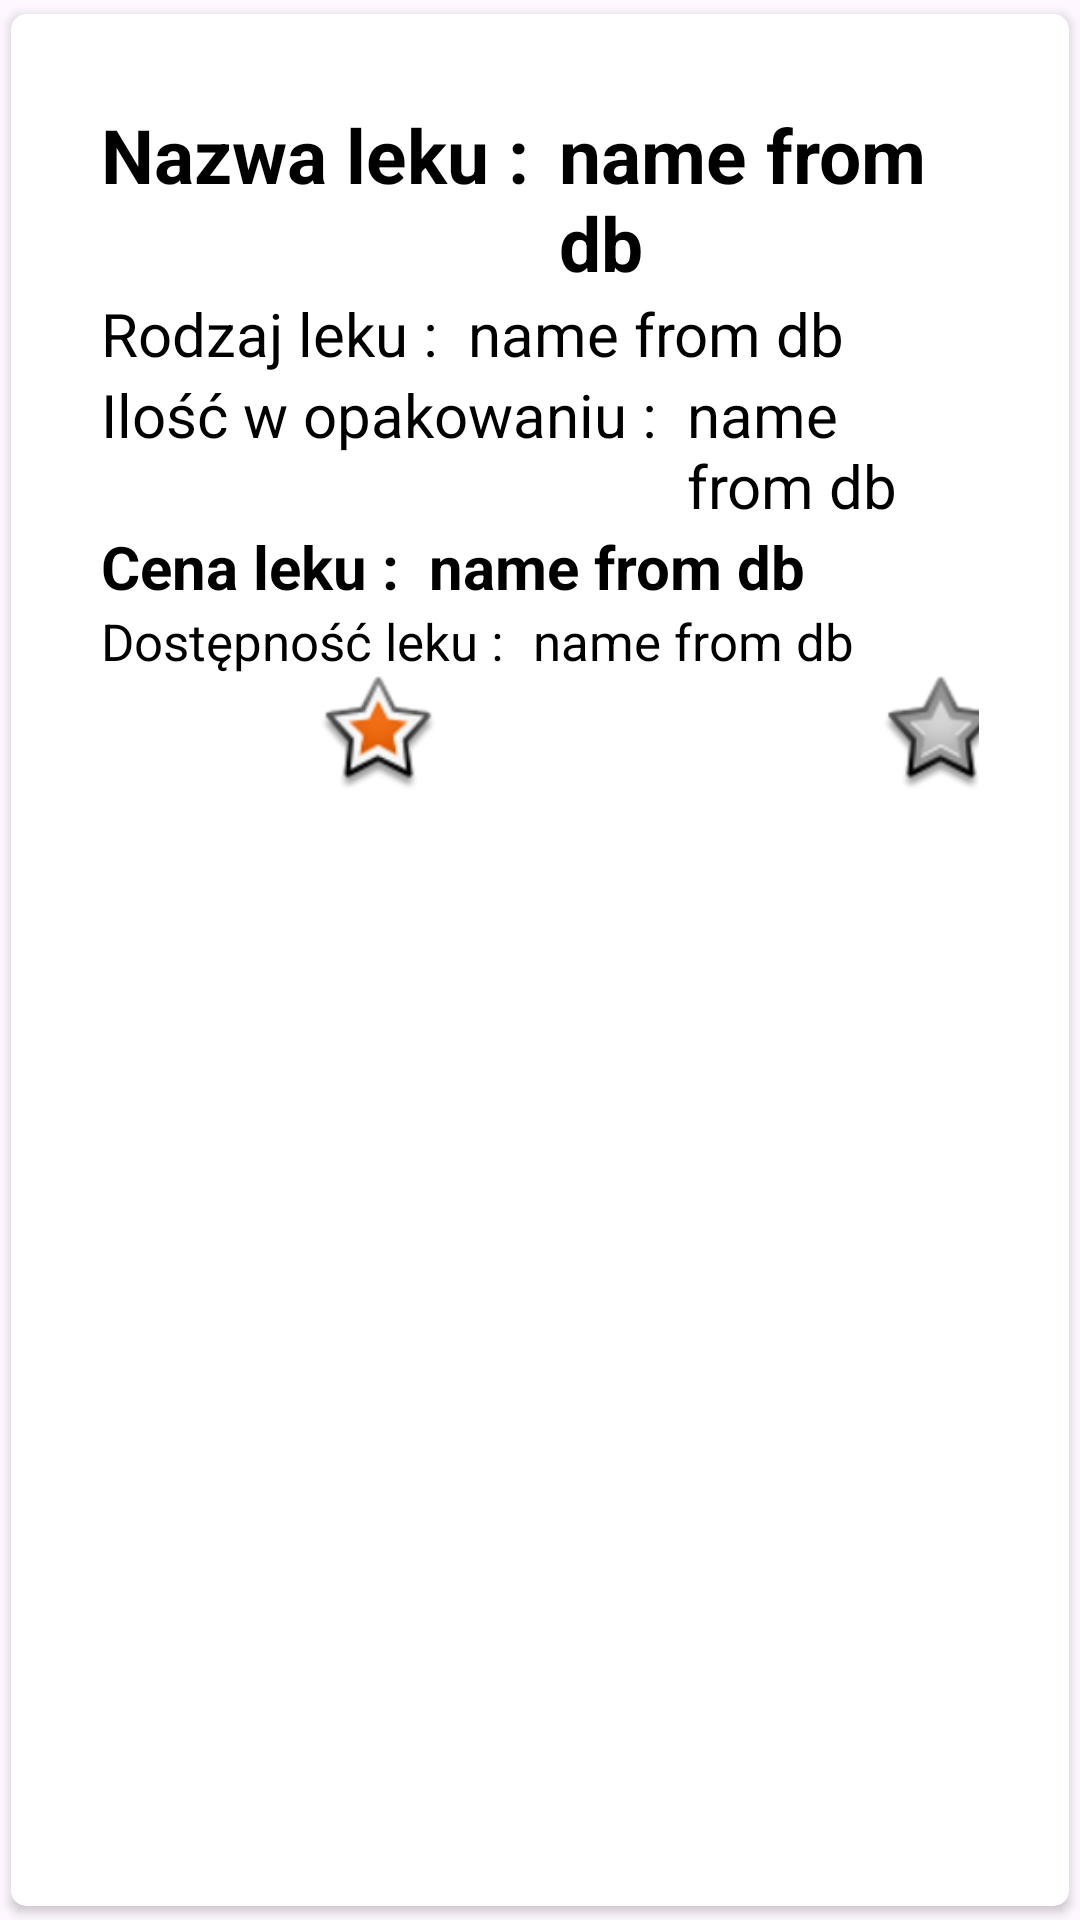

Locate icon controls on the screen. Image size 1080*1920, boxes as (x1, y1, x2, y2).
star on: (325, 677, 432, 785)
